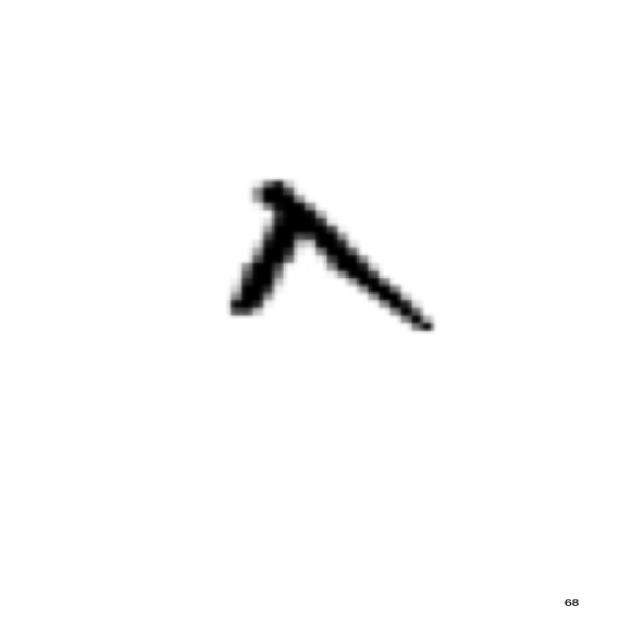8 -eight-: (210, 170, 450, 352)
